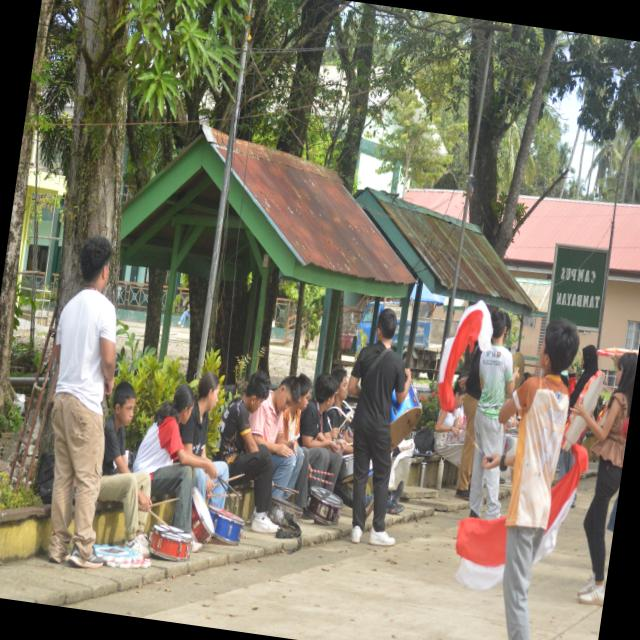person: (483, 319, 578, 639), (48, 237, 115, 568), (572, 353, 637, 605), (347, 308, 410, 546), (132, 385, 216, 533), (468, 310, 518, 519), (219, 371, 277, 533), (98, 381, 150, 557), (249, 375, 302, 498), (299, 373, 341, 491), (179, 372, 219, 461), (433, 381, 466, 467), (568, 345, 597, 411)
